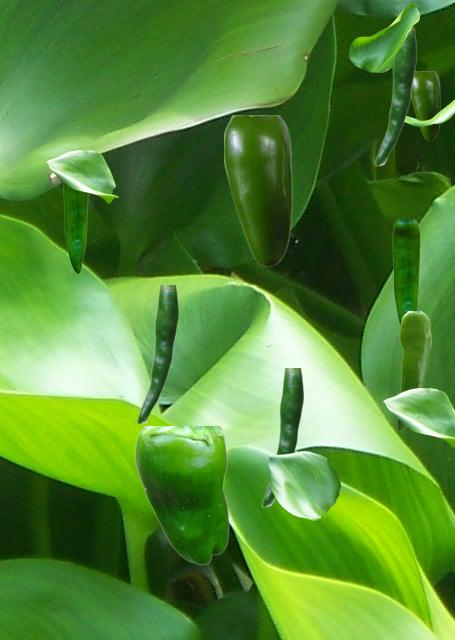green_chili: (134, 426, 228, 564), (224, 115, 291, 266), (136, 285, 177, 423), (261, 368, 302, 506), (374, 27, 415, 165), (397, 311, 430, 430), (392, 219, 419, 326), (63, 183, 87, 272), (411, 71, 439, 139)
